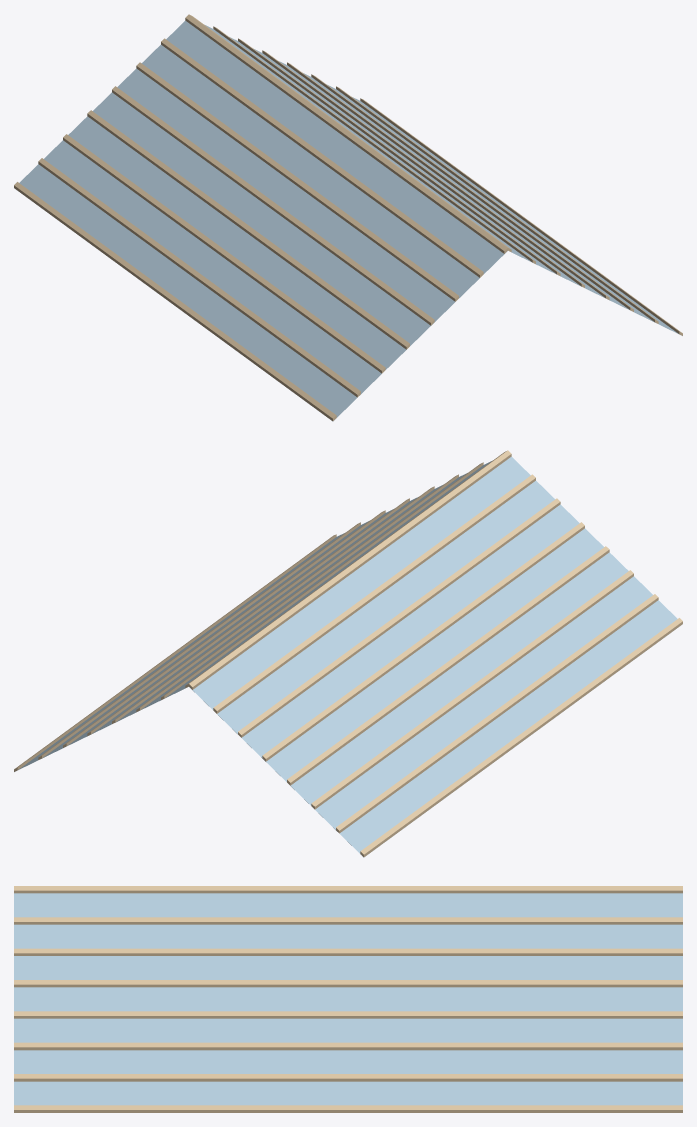
The model's file is stage-4.glb.
3 views of the same model, one above another, from view 1: azimuth 30°, elevation 25°; view 2: azimuth 150°, elevation 25°; view 3: azimuth 270°, elevation 25° (orthographic). The views are drawn at different scales.
Parts seen in each view (by area): view 1: Geom3D (×2); view 2: Geom3D (×2); view 3: Geom3D (×2).
Part boxes in pixels (box(x1,y1,x2,y2)): Geom3D (×2): box(14, 14, 682, 421); Geom3D (×2): box(14, 450, 682, 857); Geom3D (×2): box(14, 886, 682, 1112).
Bounding box in the file's own units: 4.04 × 1.45 × 6.38.
